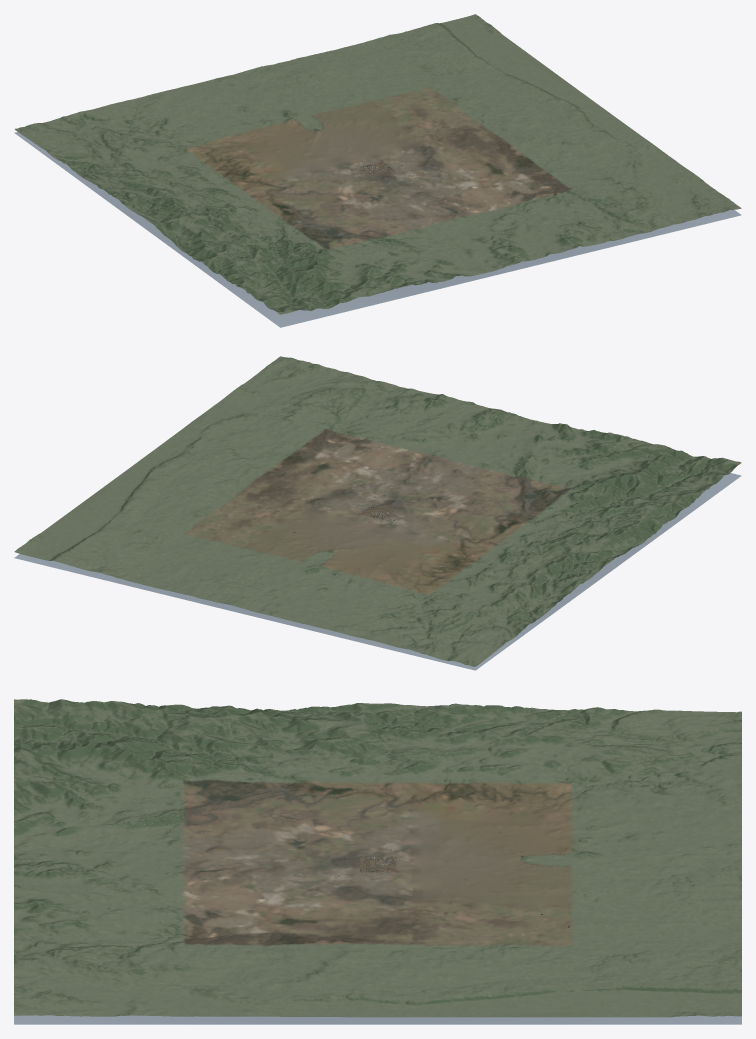
The model's file is bruce_backdrop_part1.glb.
3 views of the same model, one above another, from view 1: azimuth 30°, elevation 25°; view 2: azimuth 150°, elevation 25°; view 3: azimuth 270°, elevation 25° (orthographic). The views are drawn at different scales.
Parts seen in each view (by area): view 1: bg_far_terrain, bg_far_water; view 2: bg_far_terrain, bg_far_water; view 3: bg_far_terrain, bg_far_water, bg_near_ground.
Part boxes in pixels (<box>): bg_far_terrain: <box>14,14,741,314</box>; bg_far_water: <box>14,132,741,327</box>; bg_far_terrain: <box>14,356,741,666</box>; bg_far_water: <box>14,473,741,670</box>; bg_far_terrain: <box>14,699,741,1017</box>; bg_far_water: <box>14,855,741,1024</box>; bg_near_ground: <box>359,856,396,872</box>.
Bounding box in the file's own units: 60004 × 1677 × 60002.
Materials: 28 (16 with a texture image).
